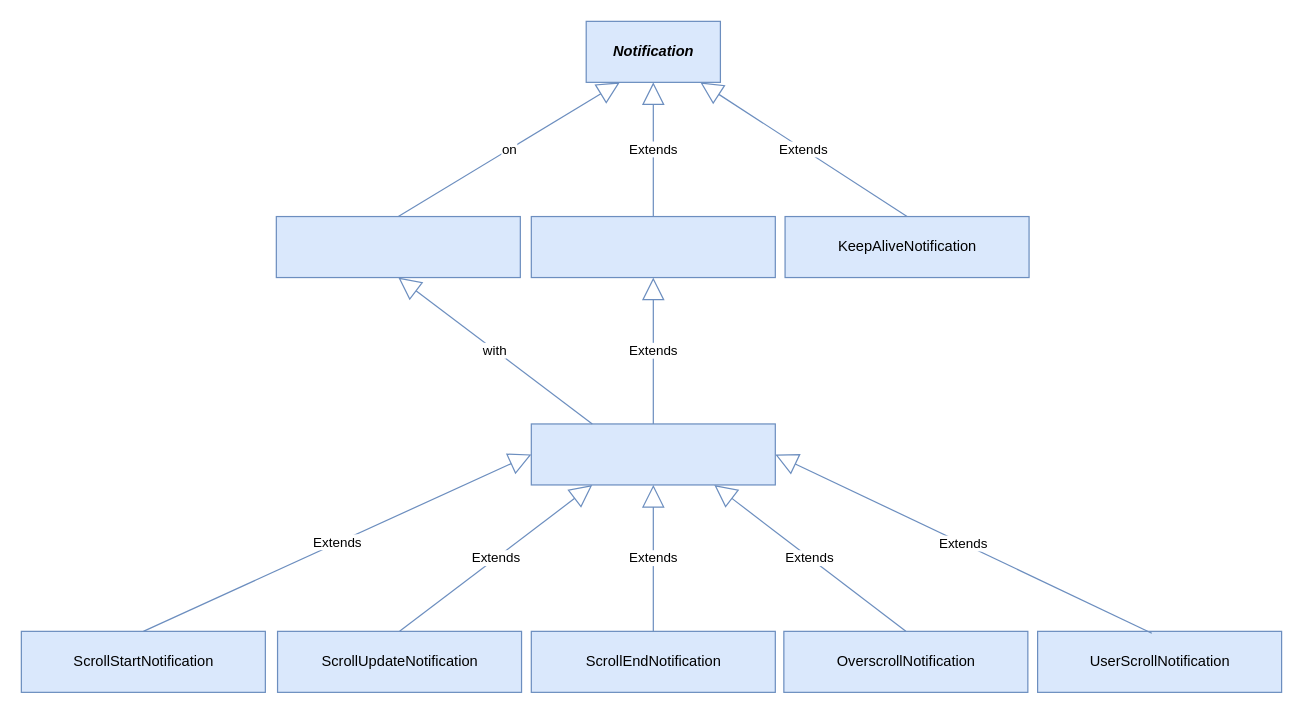
Some shapes in this 1303 by 714 pixel diagram are drawn without their labels. Here are the shapes that lost their labels. From the top down, the centre of each, then its label:
(397,246): ViewportNotificationMixin
(652,246): LayoutChangedNotification
(652,454): ScrollNotification
